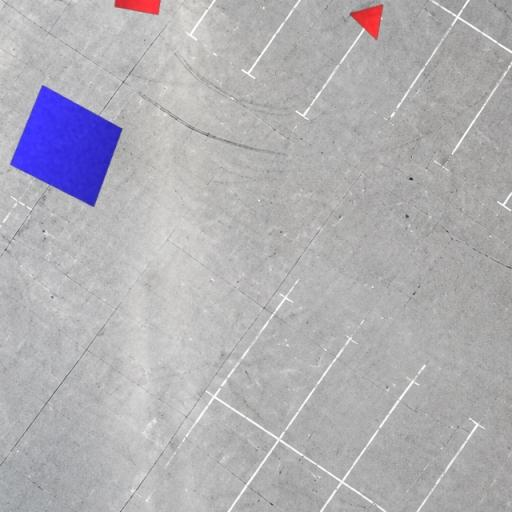BLUE_SQUARE: (10, 85, 123, 207)
